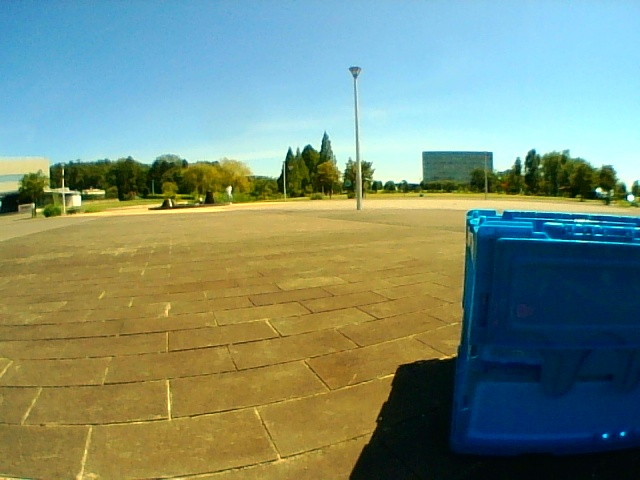blue_box: (467, 214, 640, 447)
